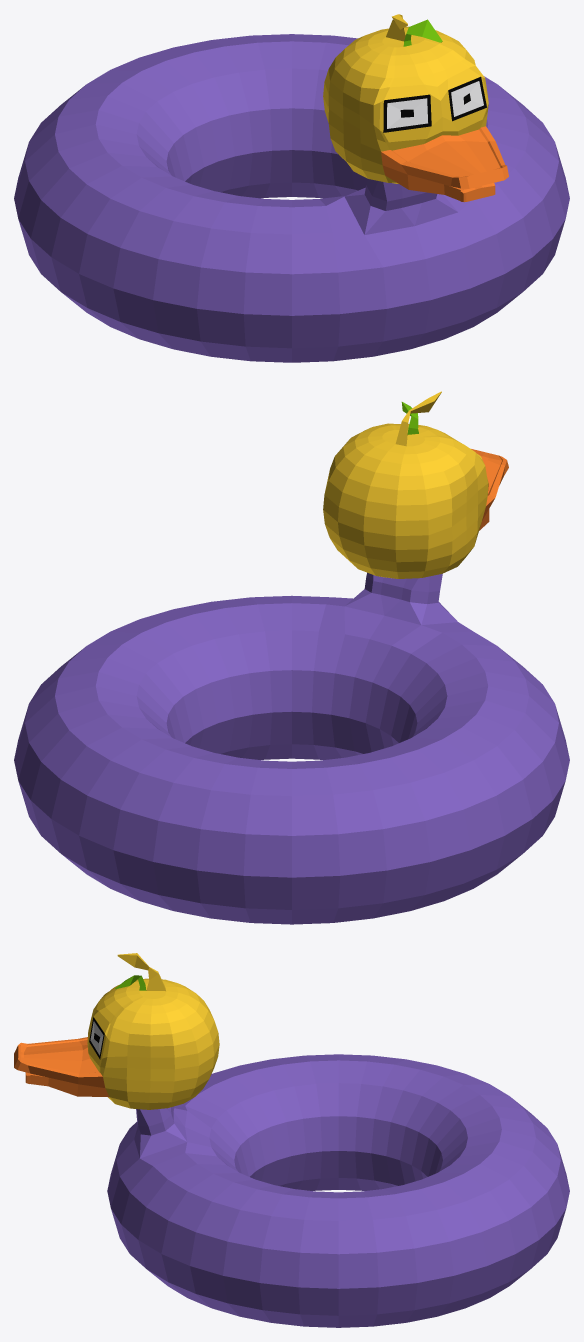
Rendered from duck.glb.
3 views of the same model, one above another, from view 1: azimuth 30°, elevation 25°; view 2: azimuth 150°, elevation 25°; view 3: azimuth 270°, elevation 25° (orthographic). The views are drawn at different scales.
Visible parts, largest first — view 1: Sphere; view 2: Sphere; view 3: Sphere.
Part boxes in pixels (x1,y1,x2,y2): Sphere: (14,14,569,362); Sphere: (14,391,569,924); Sphere: (14,953,569,1327).
Size of the model in its own units: 17 by 11.82 by 20.43.
Materials: 1 (1 with a texture image).
